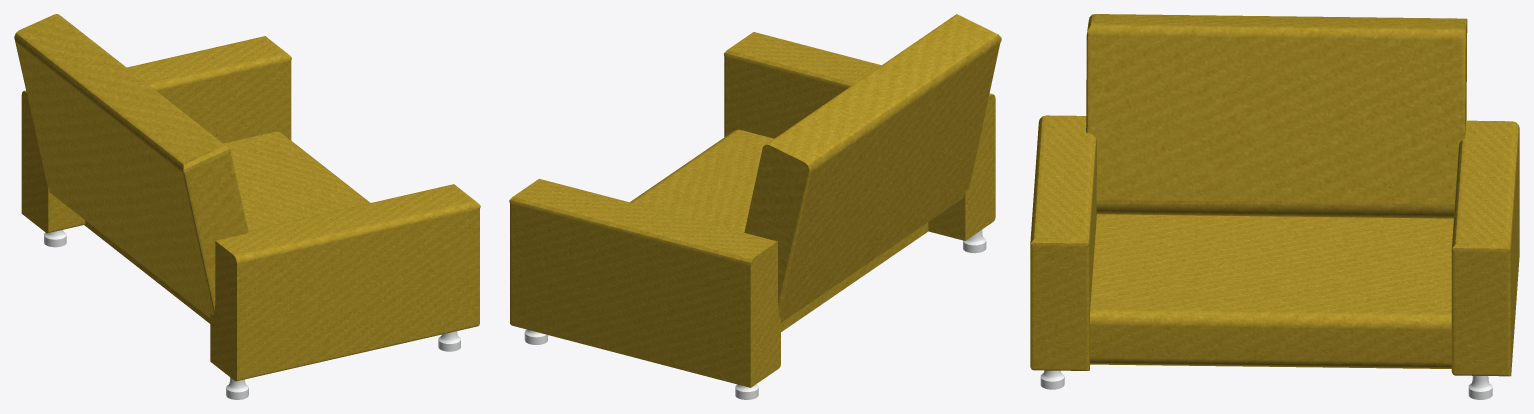
3 views of the same model, side by side, from view 1: azimuth 30°, elevation 25°; view 2: azimuth 150°, elevation 25°; view 3: azimuth 270°, elevation 25° (orthographic). The views are drawn at different scales.
Visible parts, largest first — view 1: pCube80, pCube18, pCube17, pCube15, pCylinder38; view 2: pCube18, pCube17, pCube80, pCube15; view 3: pCube18, pCube15, pCube17, pCube80, pCylinder36, pCylinder35.
Boxes of the visible parts, x1,y1,x2,y2 form: pCube80: [210, 184, 480, 381]; pCube18: [14, 14, 248, 317]; pCube17: [21, 36, 291, 233]; pCube15: [84, 131, 370, 323]; pCylinder38: [226, 377, 248, 399]; pCube18: [744, 14, 1001, 322]; pCube17: [509, 178, 780, 387]; pCube80: [724, 32, 995, 240]; pCube15: [630, 129, 928, 331]; pCube18: [1086, 14, 1467, 218]; pCube15: [1090, 214, 1453, 368]; pCube17: [1451, 120, 1519, 376]; pCube80: [1030, 115, 1096, 370]; pCylinder36: [1468, 376, 1492, 399]; pCylinder35: [1040, 370, 1064, 389].
Bounding box in the file's own units: 1.39 × 1.13 × 1.98.
Materials: 2 (2 with a texture image).
